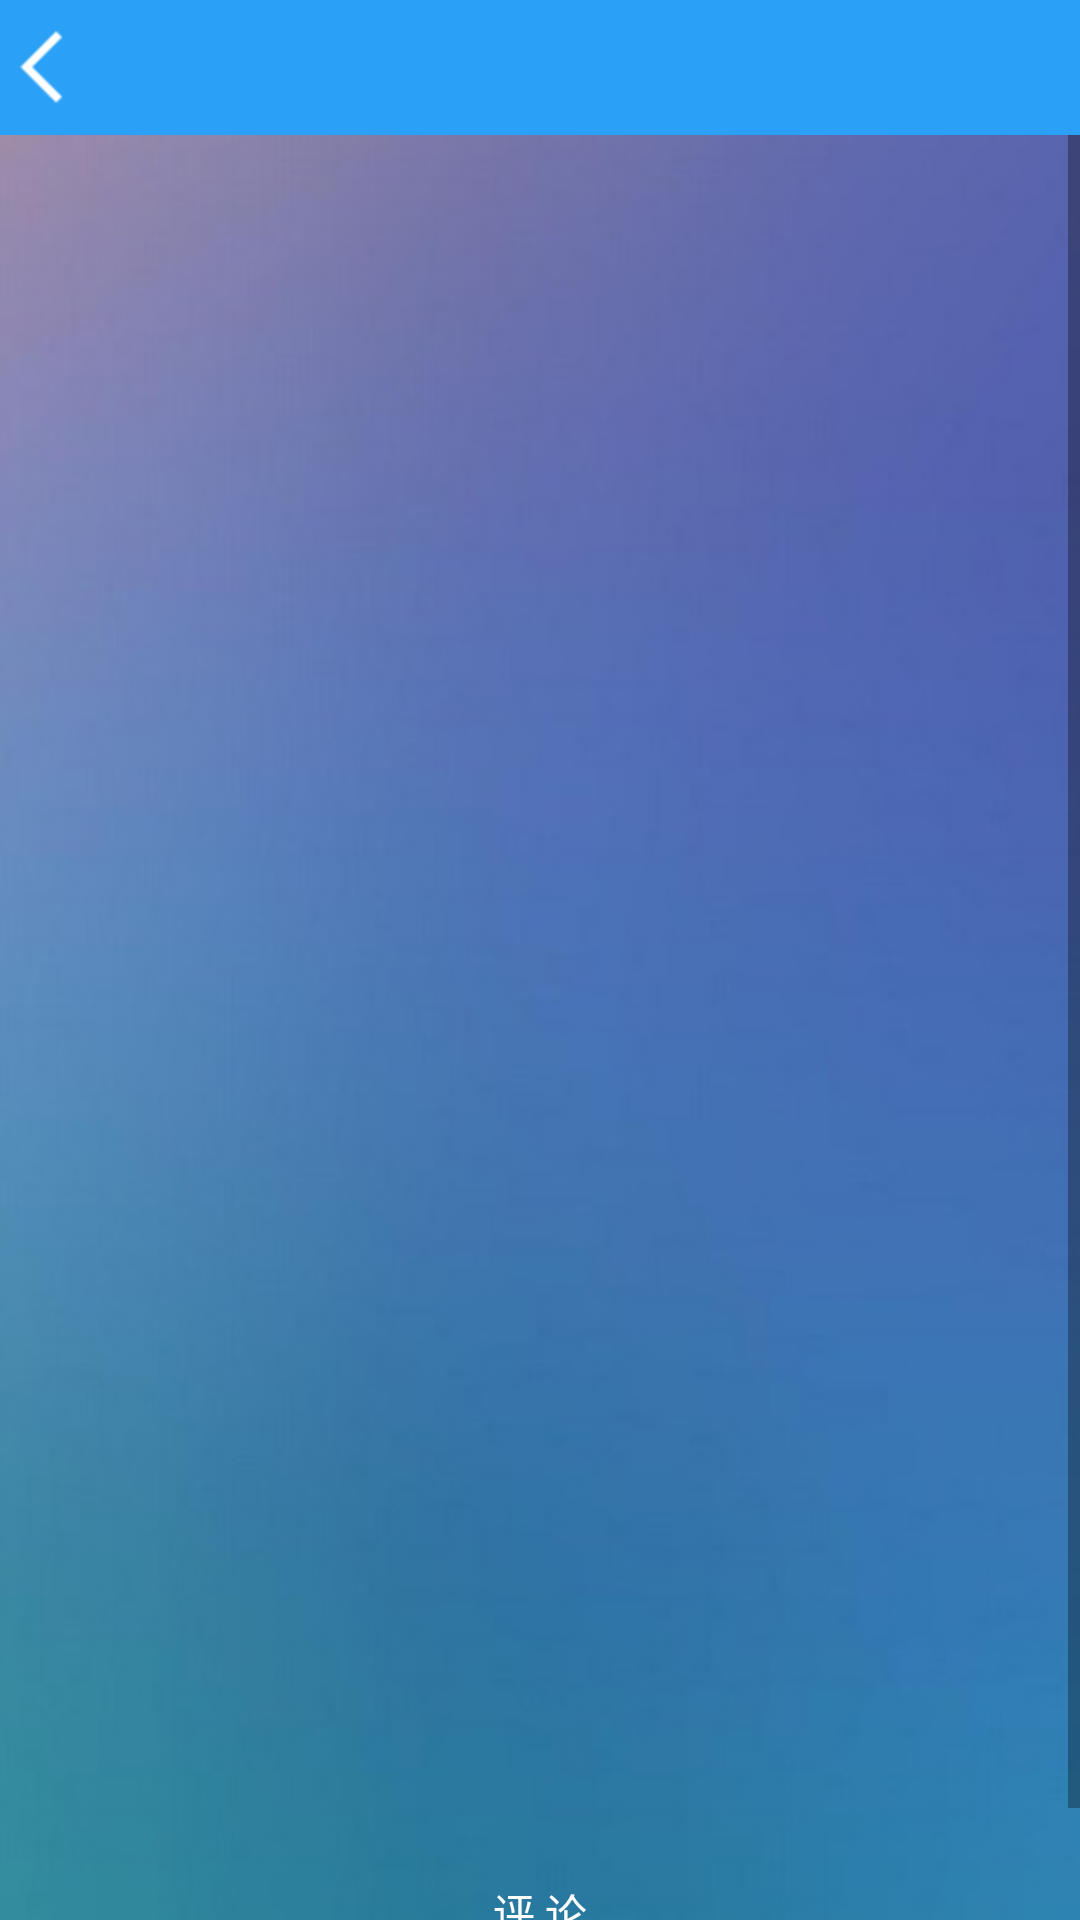

Screen size 1080w x 1920h. Icon name, then its center in pixels as [x,y]:
fanhui: [41,67]
